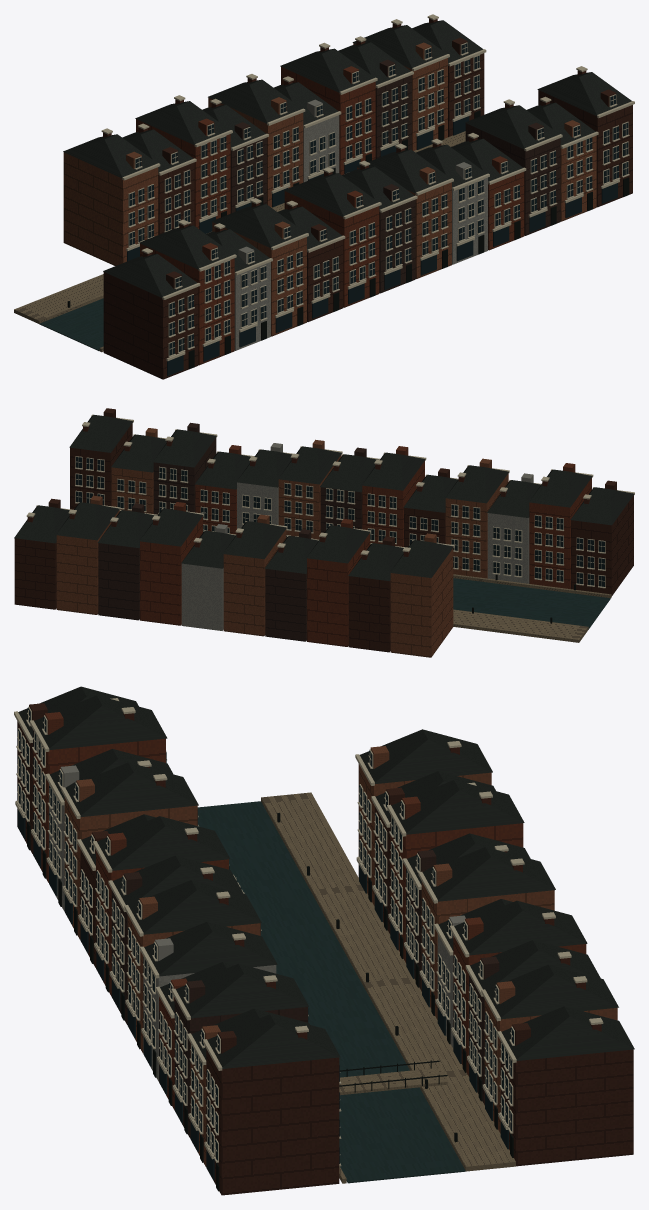
The picture shows the model from 3 angles, top to bottom: view 1: azimuth 30°, elevation 25°; view 2: azimuth 150°, elevation 25°; view 3: azimuth 270°, elevation 25°; orthographic projection. The views are drawn at different scales.
Visible parts, largest first — view 1: hang-steigers-3, hang-steigers-4, hang-steigers-5, hang-steigers-2, hang-steigers-8, hang-steigers-9, hang-steigers-10, hang-steigers-11, hang-steigers-1, hang-steigers-6, hang-steigers-0, hang-steigers-7; view 2: hang-steigers-3, hang-steigers-2, hang-steigers-9, hang-steigers-8, hang-steigers-10, hang-steigers-4, hang-steigers-5, hang-steigers-11, hang-steigers-0, hang-steigers-1, hang-steigers-7; view 3: hang-steigers-3, hang-steigers-8, hang-steigers-0, hang-steigers-4, hang-steigers-1, hang-steigers-5, hang-steigers-2, hang-steigers-9, hang-steigers-10, hang-steigers-6, hang-steigers-11, hang-steigers-7.
Part boxes in pixels (x1=…): hang-steigers-3: x1=63, y1=20, x2=631, y2=297; hang-steigers-4: x1=101, y1=14, x2=634, y2=361; hang-steigers-5: x1=127, y1=43, x2=628, y2=376; hang-steigers-2: x1=63, y1=42, x2=596, y2=336; hang-steigers-8: x1=103, y1=37, x2=632, y2=379; hang-steigers-9: x1=136, y1=66, x2=524, y2=365; hang-steigers-10: x1=230, y1=59, x2=560, y2=293; hang-steigers-11: x1=234, y1=99, x2=487, y2=350; hang-steigers-1: x1=14, y1=131, x2=465, y2=352; hang-steigers-6: x1=67, y1=110, x2=629, y2=369; hang-steigers-0: x1=39, y1=298, x2=103, y2=350; hang-steigers-7: x1=103, y1=18, x2=586, y2=257; hang-steigers-3: x1=14, y1=415, x2=634, y2=581; hang-steigers-2: x1=56, y1=428, x2=508, y2=657; hang-steigers-9: x1=140, y1=445, x2=591, y2=646; hang-steigers-8: x1=14, y1=408, x2=633, y2=652; hang-steigers-10: x1=98, y1=422, x2=366, y2=641; hang-steigers-4: x1=26, y1=414, x2=634, y2=588; hang-steigers-5: x1=76, y1=457, x2=604, y2=586; hang-steigers-11: x1=181, y1=443, x2=533, y2=630; hang-steigers-0: x1=453, y1=578, x2=610, y2=629; hang-steigers-1: x1=453, y1=574, x2=611, y2=642; hang-steigers-7: x1=27, y1=426, x2=590, y2=559; hang-steigers-3: x1=18, y1=686, x2=634, y2=1068; hang-steigers-8: x1=17, y1=703, x2=633, y2=1195; hang-steigers-0: x1=197, y1=801, x2=465, y2=1183; hang-steigers-4: x1=14, y1=698, x2=603, y2=1166; hang-steigers-1: x1=261, y1=792, x2=515, y2=1183; hang-steigers-5: x1=17, y1=708, x2=513, y2=1180; hang-steigers-2: x1=64, y1=746, x2=617, y2=1166; hang-steigers-9: x1=33, y1=712, x2=586, y2=1109; hang-steigers-10: x1=111, y1=850, x2=499, y2=1138; hang-steigers-6: x1=27, y1=812, x2=513, y2=1191; hang-steigers-11: x1=49, y1=765, x2=465, y2=1081; hang-steigers-7: x1=123, y1=713, x2=601, y2=1039.
Size of the model in its own units: 109 by 20.8 by 71.93.
12 materials, 12 textured.
